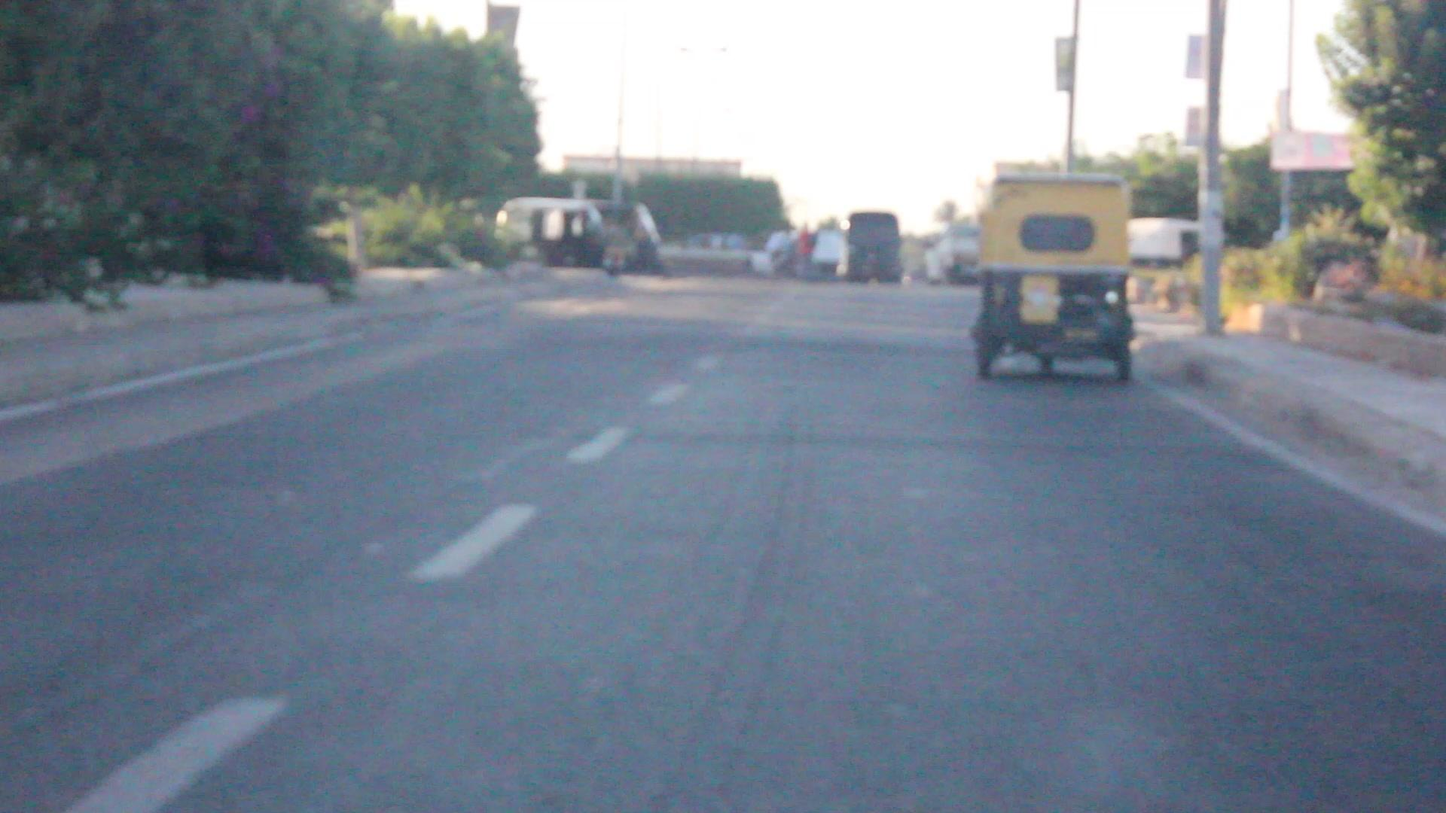Bump: (379, 310, 978, 357)
